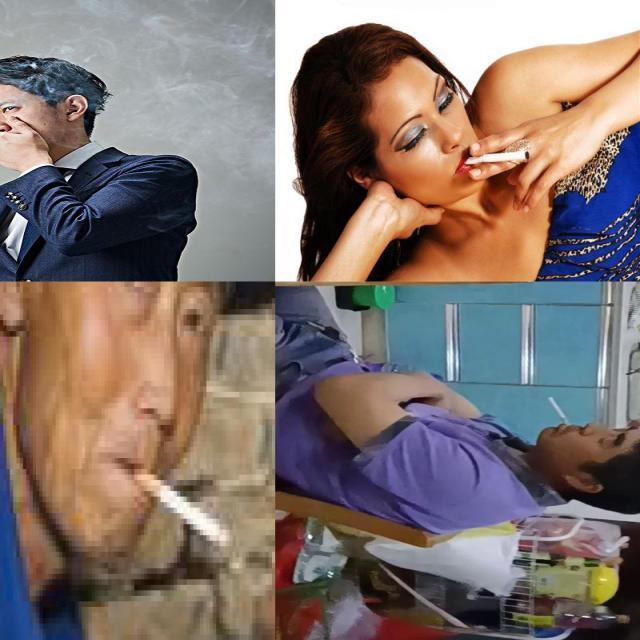smoke: (133, 466, 230, 550), (464, 150, 530, 164), (548, 398, 571, 427)
